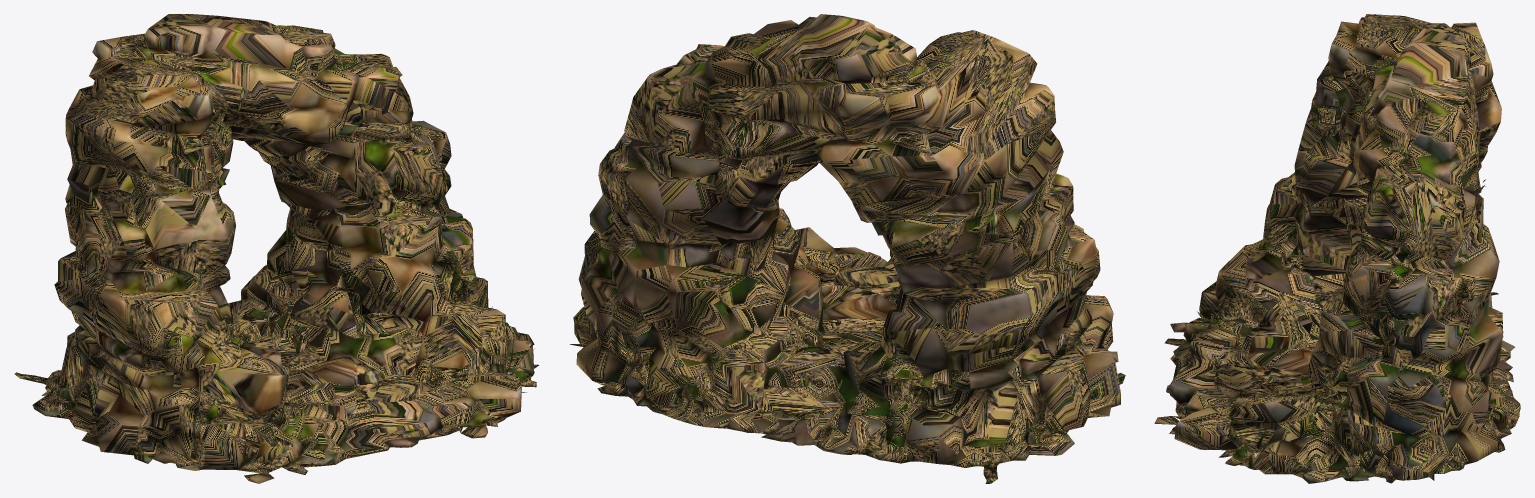
File: Rocky_Archway.glb
3 renders of one model, left to right at view 1: azimuth 30°, elevation 25°; view 2: azimuth 150°, elevation 25°; view 3: azimuth 270°, elevation 25°, orthographic. The views are drawn at different scales.
Parts seen in each view (by area): view 1: Rocky_Archway; view 2: Rocky_Archway; view 3: Rocky_Archway.
Boxes of the visible parts, x1=… form: Rocky_Archway: x1=14, y1=14, x2=538, y2=483; Rocky_Archway: x1=570, y1=14, x2=1125, y2=483; Rocky_Archway: x1=1154, y1=14, x2=1520, y2=483.
Size of the model in its own units: 1.89 by 1.4 by 1.44.
Materials: 1 (1 with a texture image).
